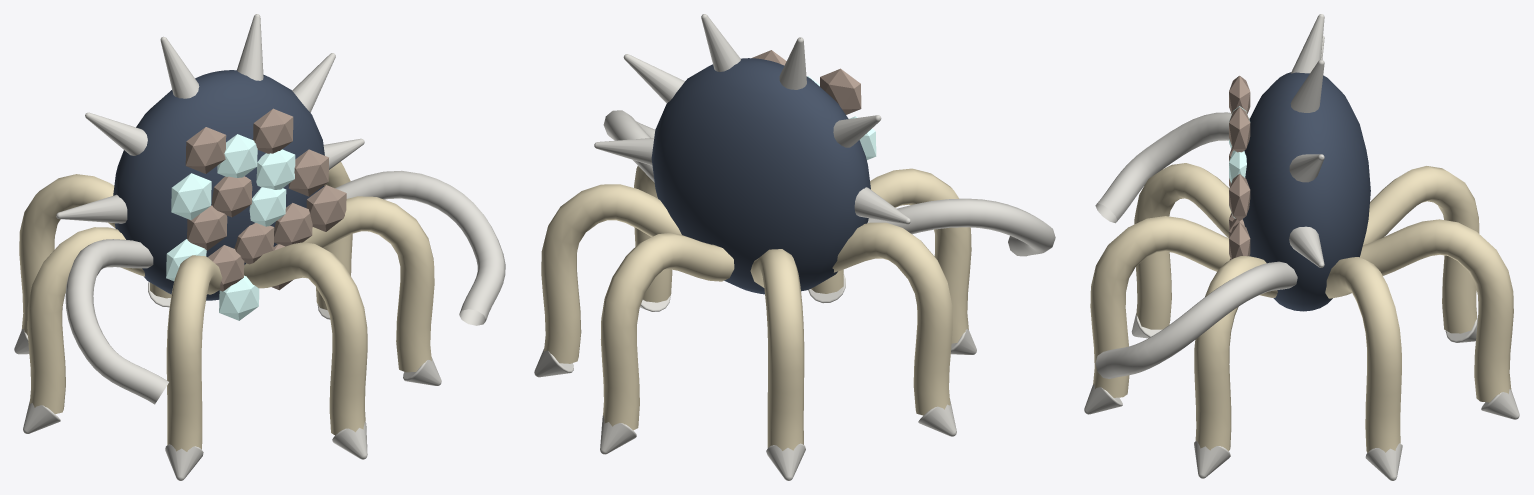
File: bio_crown_stalker_03_near.glb
The picture shows the model from 3 angles, left to right: view 1: azimuth 30°, elevation 25°; view 2: azimuth 150°, elevation 25°; view 3: azimuth 270°, elevation 25°; orthographic projection. The views are drawn at different scales.
Parts seen in each view (by area): view 1: Faceted crown substrate, Compound lens facet.001, Crooked support.005, Crooked support.006, Compound lens facet, Crooked support.004, Scythe sensory limb.001, Scythe sensory limb, Crown radiating blade, Crooked support.003, Crooked support.002, Crooked support (+4 smaller); view 2: Faceted crown substrate, Crooked support.001, Crooked support, Crooked support.003, Crooked support.002, Crown radiating blade, Crooked support.004, Scythe sensory limb, Compound lens facet.001, Crooked support.006, Scythe sensory limb.001, Contact spur.002 (+3 smaller); view 3: Faceted crown substrate, Crooked support.001, Crooked support.005, Crooked support, Crooked support.002, Crooked support.004, Scythe sensory limb.001, Crooked support.006, Scythe sensory limb, Crown radiating blade, Compound lens facet.001, Contact spur.006 (+4 smaller).
Part boxes in pixels (left/top/right/bottom): Faceted crown substrate: left=113, top=70, right=324, bottom=300; Compound lens facet.001: left=185, top=108, right=346, bottom=291; Crooked support.005: left=244, top=242, right=367, bottom=435; Crooked support.006: left=303, top=196, right=434, bottom=372; Compound lens facet: left=166, top=134, right=295, bottom=320; Crooked support.004: left=166, top=255, right=222, bottom=451; Scythe sensory limb.001: left=335, top=170, right=505, bottom=325; Scythe sensory limb: left=65, top=239, right=168, bottom=404; Crown radiating blade: left=56, top=14, right=364, bottom=223; Crooked support.003: left=27, top=227, right=144, bottom=414; Crooked support.002: left=19, top=174, right=115, bottom=335; Crooked support: left=316, top=161, right=352, bottom=310; Faceted crown substrate: left=651, top=58, right=870, bottom=294; Crooked support.001: left=600, top=233, right=734, bottom=430; Crooked support: left=541, top=184, right=681, bottom=363; Crooked support.003: left=832, top=222, right=952, bottom=415; Crooked support.002: left=750, top=249, right=804, bottom=450; Crown radiating blade: left=594, top=14, right=910, bottom=224; Crooked support.004: left=870, top=168, right=971, bottom=343; Scythe sensory limb: left=867, top=198, right=1055, bottom=256; Compound lens facet.001: left=751, top=50, right=861, bottom=114; Crooked support.006: left=634, top=166, right=672, bottom=302; Scythe sensory limb.001: left=603, top=110, right=655, bottom=182; Contact spur.002: left=766, top=443, right=805, bottom=480; Faceted crown substrate: left=1242, top=72, right=1370, bottom=311; Crooked support.001: left=1359, top=219, right=1513, bottom=402; Crooked support.005: left=1090, top=216, right=1230, bottom=397; Crooked support: left=1325, top=257, right=1401, bottom=452; Crooked support.002: left=1363, top=166, right=1479, bottom=333; Crooked support.004: left=1134, top=163, right=1231, bottom=329; Scythe sensory limb.001: left=1095, top=261, right=1297, bottom=378; Crooked support.006: left=1194, top=256, right=1277, bottom=450; Scythe sensory limb: left=1095, top=112, right=1249, bottom=223; Crown radiating blade: left=1289, top=14, right=1324, bottom=267; Compound lens facet.001: left=1229, top=75, right=1250, bottom=260; Contact spur.006: left=1194, top=441, right=1230, bottom=478.
Bounding box in the file's own units: 2.58 × 2.11 × 2.32.
